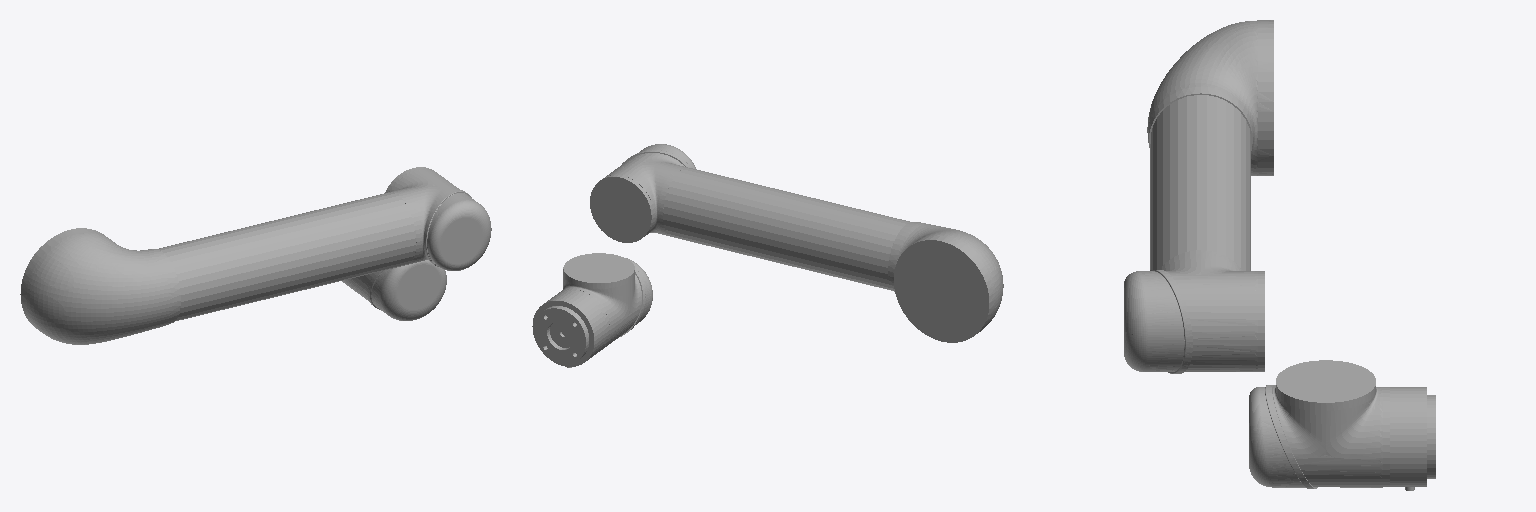
The robot description file, URDF, robot "ur5":
<?xml version="1.0" ?>
<!-- =================================================================================== -->
<!-- |    This document was autogenerated by xacro from ur5_joint_limited_robot.urdf.xacro | -->
<!-- |    EDITING THIS FILE BY HAND IS NOT RECOMMENDED                                 | -->
<!-- =================================================================================== -->
<robot name="ur5" xmlns:xacro="http://www.ros.org/wiki/xacro">
  <!-- common stuff -->
  <gazebo>
    <plugin filename="libgazebo_ros_control.so" name="ros_control">
      <!--robotNamespace>/</robotNamespace-->
      <!--robotSimType>gazebo_ros_control/DefaultRobotHWSim</robotSimType-->
    </plugin>
    <!--
    <plugin name="gazebo_ros_power_monitor_controller" filename="libgazebo_ros_power_monitor.so">
      <alwaysOn>true</alwaysOn>
      <updateRate>1.0</updateRate>
      <timeout>5</timeout>
      <powerStateTopic>power_state</powerStateTopic>
      <powerStateRate>10.0</powerStateRate>
      <fullChargeCapacity>87.78</fullChargeCapacity>     
      <dischargeRate>-474</dischargeRate>
      <chargeRate>525</chargeRate>
      <dischargeVoltage>15.52</dischargeVoltage>
      <chargeVoltage>16.41</chargeVoltage>
    </plugin>
-->
  </gazebo>
  <!-- ur5 -->
  <!-- arm -->
  <link name="base_link">
    <visual>
      <geometry>
        <mesh filename="package://ur_description/meshes/ur5/visual/Base.dae"/>
      </geometry>
      <material name="LightGrey">
        <color rgba="0.7 0.7 0.7 1.0"/>
      </material>
    </visual>
    <collision>
      <geometry>
        <mesh filename="package://ur_description/meshes/ur5/collision/base.stl"/>
      </geometry>
    </collision>
    <inertial>
      <mass value="4.0"/>
      <origin rpy="0 0 0" xyz="0.0 0.0 0.0"/>
      <inertia ixx="0.00443333156" ixy="0.0" ixz="0.0" iyy="0.00443333156" iyz="0.0" izz="0.0072"/>
    </inertial>
  </link>
  <joint name="shoulder_pan_joint" type="revolute">
    <parent link="base_link"/>
    <child link="shoulder_link"/>
    <origin rpy="0.0 0.0 0.0" xyz="0.0 0.0 0.089159"/>
    <axis xyz="0 0 1"/>
    <limit effort="150.0" lower="-3.14159265" upper="3.14159265" velocity="3.15"/>
    <dynamics damping="0.0" friction="0.0"/>
  </joint>
  <link name="shoulder_link">
    <visual>
      <geometry>
        <mesh filename="package://ur_description/meshes/ur5/visual/Shoulder.dae"/>
      </geometry>
      <material name="LightGrey">
        <color rgba="0.7 0.7 0.7 1.0"/>
      </material>
    </visual>
    <collision>
      <geometry>
        <mesh filename="package://ur_description/meshes/ur5/collision/shoulder.stl"/>
      </geometry>
    </collision>
    <inertial>
      <mass value="3.7"/>
      <origin rpy="0 0 0" xyz="0.0 0.0 0.0"/>
      <inertia ixx="0.010267495893" ixy="0.0" ixz="0.0" iyy="0.010267495893" iyz="0.0" izz="0.00666"/>
    </inertial>
  </link>
  <joint name="shoulder_lift_joint" type="revolute">
    <parent link="shoulder_link"/>
    <child link="upper_arm_link"/>
    <origin rpy="0.0 1.570796325 0.0" xyz="0.0 0.13585 0.0"/>
    <axis xyz="0 1 0"/>
    <limit effort="150.0" lower="-3.14159265" upper="3.14159265" velocity="3.15"/>
    <dynamics damping="0.0" friction="0.0"/>
  </joint>
  <link name="upper_arm_link">
    <visual>
      <geometry>
        <mesh filename="package://ur_description/meshes/ur5/visual/UpperArm.dae"/>
      </geometry>
      <material name="LightGrey">
        <color rgba="0.7 0.7 0.7 1.0"/>
      </material>
    </visual>
    <collision>
      <geometry>
        <mesh filename="package://ur_description/meshes/ur5/collision/upper_arm.stl"/>
      </geometry>
    </collision>
    <inertial>
      <mass value="8.393"/>
      <origin rpy="0 0 0" xyz="0.0 0.0 0.28"/>
      <inertia ixx="0.22689067591" ixy="0.0" ixz="0.0" iyy="0.22689067591" iyz="0.0" izz="0.0151074"/>
    </inertial>
  </link>
  <joint name="elbow_joint" type="revolute">
    <parent link="upper_arm_link"/>
    <child link="forearm_link"/>
    <origin rpy="0.0 0.0 0.0" xyz="0.0 -0.1197 0.425"/>
    <axis xyz="0 1 0"/>
    <limit effort="150.0" lower="-3.14159265" upper="3.14159265" velocity="3.15"/>
    <dynamics damping="0.0" friction="0.0"/>
  </joint>
  <link name="forearm_link">
    <visual>
      <geometry>
        <mesh filename="package://ur_description/meshes/ur5/visual/Forearm.dae"/>
      </geometry>
      <material name="LightGrey">
        <color rgba="0.7 0.7 0.7 1.0"/>
      </material>
    </visual>
    <collision>
      <geometry>
        <mesh filename="package://ur_description/meshes/ur5/collision/forearm.stl"/>
      </geometry>
    </collision>
    <inertial>
      <mass value="2.275"/>
      <origin rpy="0 0 0" xyz="0.0 0.0 0.25"/>
      <inertia ixx="0.049443313556" ixy="0.0" ixz="0.0" iyy="0.049443313556" iyz="0.0" izz="0.004095"/>
    </inertial>
  </link>
  <joint name="wrist_1_joint" type="revolute">
    <parent link="forearm_link"/>
    <child link="wrist_1_link"/>
    <origin rpy="0.0 1.570796325 0.0" xyz="0.0 0.0 0.39225"/>
    <axis xyz="0 1 0"/>
    <limit effort="28.0" lower="-3.14159265" upper="3.14159265" velocity="3.2"/>
    <dynamics damping="0.0" friction="0.0"/>
  </joint>
  <link name="wrist_1_link">
    <visual>
      <geometry>
        <mesh filename="package://ur_description/meshes/ur5/visual/Wrist1.dae"/>
      </geometry>
      <material name="LightGrey">
        <color rgba="0.7 0.7 0.7 1.0"/>
      </material>
    </visual>
    <collision>
      <geometry>
        <mesh filename="package://ur_description/meshes/ur5/collision/wrist_1.stl"/>
      </geometry>
    </collision>
    <inertial>
      <mass value="1.219"/>
      <origin rpy="0 0 0" xyz="0.0 0.0 0.0"/>
      <inertia ixx="0.111172755531" ixy="0.0" ixz="0.0" iyy="0.111172755531" iyz="0.0" izz="0.21942"/>
    </inertial>
  </link>
  <joint name="wrist_2_joint" type="revolute">
    <parent link="wrist_1_link"/>
    <child link="wrist_2_link"/>
    <origin rpy="0.0 0.0 0.0" xyz="0.0 0.093 0.0"/>
    <axis xyz="0 0 1"/>
    <limit effort="28.0" lower="-3.14159265" upper="3.14159265" velocity="3.2"/>
    <dynamics damping="0.0" friction="0.0"/>
  </joint>
  <link name="wrist_2_link">
    <visual>
      <geometry>
        <mesh filename="package://ur_description/meshes/ur5/visual/Wrist2.dae"/>
      </geometry>
      <material name="LightGrey">
        <color rgba="0.7 0.7 0.7 1.0"/>
      </material>
    </visual>
    <collision>
      <geometry>
        <mesh filename="package://ur_description/meshes/ur5/collision/wrist_2.stl"/>
      </geometry>
    </collision>
    <inertial>
      <mass value="1.219"/>
      <origin rpy="0 0 0" xyz="0.0 0.0 0.0"/>
      <inertia ixx="0.111172755531" ixy="0.0" ixz="0.0" iyy="0.111172755531" iyz="0.0" izz="0.21942"/>
    </inertial>
  </link>
  <joint name="wrist_3_joint" type="revolute">
    <parent link="wrist_2_link"/>
    <child link="wrist_3_link"/>
    <origin rpy="0.0 0.0 0.0" xyz="0.0 0.0 0.09465"/>
    <axis xyz="0 1 0"/>
    <limit effort="28.0" lower="-3.14159265" upper="3.14159265" velocity="3.2"/>
    <dynamics damping="0.0" friction="0.0"/>
  </joint>
  <link name="wrist_3_link">
    <visual>
      <geometry>
        <mesh filename="package://ur_description/meshes/ur5/visual/Wrist3.dae"/>
      </geometry>
      <material name="LightGrey">
        <color rgba="0.7 0.7 0.7 1.0"/>
      </material>
    </visual>
    <collision>
      <geometry>
        <mesh filename="package://ur_description/meshes/ur5/collision/wrist_3.stl"/>
      </geometry>
    </collision>
    <inertial>
      <mass value="0.1879"/>
      <origin rpy="0 0 0" xyz="0.0 0.0 0.0"/>
      <inertia ixx="0.0171364731454" ixy="0.0" ixz="0.0" iyy="0.0171364731454" iyz="0.0" izz="0.033822"/>
    </inertial>
  </link>
  <joint name="ee_fixed_joint" type="fixed">
    <parent link="wrist_3_link"/>
    <child link="ee_link"/>
    <origin rpy="0.0 0.0 1.570796325" xyz="0.0 0.0823 0.0"/>
  </joint>
  <link name="ee_link">
    <collision>
      <geometry>
        <box size="0.01 0.01 0.01"/>
      </geometry>
      <origin rpy="0 0 0" xyz="-0.01 0 0"/>
    </collision>
  </link>
  <transmission name="shoulder_pan_trans">
    <type>transmission_interface/SimpleTransmission</type>
    <joint name="shoulder_pan_joint">
      <hardwareInterface>PositionJointInterface</hardwareInterface>
    </joint>
    <actuator name="shoulder_pan_motor">
      <mechanicalReduction>1</mechanicalReduction>
    </actuator>
  </transmission>
  <transmission name="shoulder_lift_trans">
    <type>transmission_interface/SimpleTransmission</type>
    <joint name="shoulder_lift_joint">
      <hardwareInterface>PositionJointInterface</hardwareInterface>
    </joint>
    <actuator name="shoulder_lift_motor">
      <mechanicalReduction>1</mechanicalReduction>
    </actuator>
  </transmission>
  <transmission name="elbow_trans">
    <type>transmission_interface/SimpleTransmission</type>
    <joint name="elbow_joint">
      <hardwareInterface>PositionJointInterface</hardwareInterface>
    </joint>
    <actuator name="elbow_motor">
      <mechanicalReduction>1</mechanicalReduction>
    </actuator>
  </transmission>
  <transmission name="wrist_1_trans">
    <type>transmission_interface/SimpleTransmission</type>
    <joint name="wrist_1_joint">
      <hardwareInterface>PositionJointInterface</hardwareInterface>
    </joint>
    <actuator name="wrist_1_motor">
      <mechanicalReduction>1</mechanicalReduction>
    </actuator>
  </transmission>
  <transmission name="wrist_2_trans">
    <type>transmission_interface/SimpleTransmission</type>
    <joint name="wrist_2_joint">
      <hardwareInterface>PositionJointInterface</hardwareInterface>
    </joint>
    <actuator name="wrist_2_motor">
      <mechanicalReduction>1</mechanicalReduction>
    </actuator>
  </transmission>
  <transmission name="wrist_3_trans">
    <type>transmission_interface/SimpleTransmission</type>
    <joint name="wrist_3_joint">
      <hardwareInterface>PositionJointInterface</hardwareInterface>
    </joint>
    <actuator name="wrist_3_motor">
      <mechanicalReduction>1</mechanicalReduction>
    </actuator>
  </transmission>
  <link name="base"/>
  <joint name="base_link-base" type="fixed">
    <!-- NOTE: this rotation is only needed as long as base_link itself is
                 not corrected wrt the real robot (ie: rotated over 180
                 degrees)
      -->
    <origin rpy="0 0 -3.14159265" xyz="0 0 0"/>
    <parent link="base_link"/>
    <child link="base"/>
  </joint>
  <link name="tool0"/>
  <joint name="wrist_3_link-tool0" type="fixed">
    <origin rpy="-1.570796325 0 0" xyz="0 0.0823 0"/>
    <parent link="wrist_3_link"/>
    <child link="tool0"/>
  </joint>
  <link name="world"/>
  <joint name="world_joint" type="fixed">
    <parent link="world"/>
    <child link="base_link"/>
    <origin rpy="0.0 0.0 0.0" xyz="0.0 0.0 0.0"/>
  </joint>
</robot>

--- Render facts (derived) ---
The picture shows the robot from 3 angles, left to right: view 1: azimuth 30°, elevation 25°; view 2: azimuth 150°, elevation 25°; view 3: azimuth 270°, elevation 25°; orthographic projection.
Model ur5 with 11 links and 10 joints (6 revolute, 4 fixed), rooted at world, posed all joints at 0.
Links seen in each view (by area): view 1: forearm_link, wrist_2_link; view 2: forearm_link, wrist_2_link, wrist_3_link; view 3: forearm_link, wrist_2_link, wrist_3_link.
Boxes of the visible links, left/top/right/bottom form: forearm_link: left=20, top=167, right=491, bottom=344; wrist_2_link: left=342, top=260, right=446, bottom=320; forearm_link: left=590, top=144, right=1003, bottom=342; wrist_2_link: left=559, top=253, right=652, bottom=349; wrist_3_link: left=532, top=291, right=607, bottom=367; forearm_link: left=1124, top=20, right=1273, bottom=373; wrist_2_link: left=1249, top=360, right=1389, bottom=488; wrist_3_link: left=1390, top=387, right=1435, bottom=490.
Size in the robot's own frame: 0.4892 by 0.232 by 0.1956 metres.
Meshes: 7 distinct files referenced, 3 mesh visuals loaded (3 Collada DAE); not drawn: 4 (reference not matched to a file when rendering).